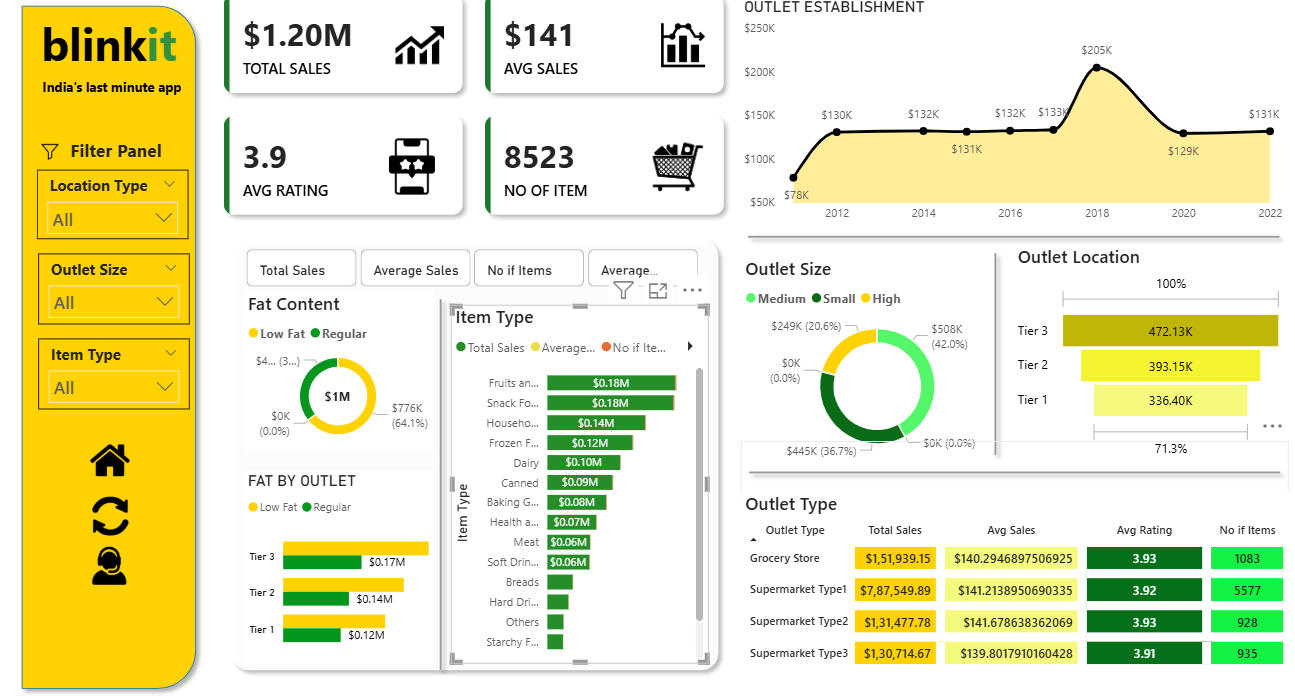

Layout of this report page (visuals, bound fields, positions):
{"tool":"powerbi","page":{"name":"Page 1","canvas":[1400,800],"ordinal":0},"visuals":[{"type":"shape","box":[22.8,49.6,205.1,750.7],"z":0},{"type":"textbox","box":[21.4,61.7,207.8,92.5],"z":1000},{"type":"textbox","box":[28.2,131.4,201.1,44.2],"z":2000},{"type":"cardVisual","fields":{"Data":["BlinkIT Grocery Data.Total Sales","BlinkIT Grocery Data.Average Sales","BlinkIT Grocery Data.Average Rating","BlinkIT Grocery Data.No if Items"]},"box":[232,30,570,270],"z":3000},{"type":"shape","box":[248,300,540,480],"z":4000},{"type":"actionButton","box":[0,0,100,40],"z":5000},{"type":"donutChart","title":"Fat Content","fields":{"Y":["BlinkIT Grocery Data.Total Sales","BlinkIT Grocery Data.Avg Sales","BlinkIT Grocery Data.No if Items","BlinkIT Grocery Data.Avg Rating"],"Category":["BlinkIT Grocery Data.Item Fat Content"]},"box":[270,365,203.8,171.2],"z":6000},{"type":"advancedSlicerVisual","fields":{"Values":["Metrics.Metrics"]},"box":[267.5,315,497.5,50],"z":7000},{"type":"card","fields":{"Values":["BlinkIT Grocery Data.Total Sales"]},"box":[342,454,58,52],"z":8000},{"type":"clusteredBarChart","title":"FAT BY OUTLET","fields":{"Y":["BlinkIT Grocery Data.Total Sales"],"Category":["BlinkIT Grocery Data.Outlet Location Type"],"Series":["BlinkIT Grocery Data.Item Fat Content"]},"box":[270,558,204,206],"z":9000},{"type":"shape","box":[460,364.5,42.7,415.5],"z":10000},{"type":"barChart","title":"Item Type","fields":{"Y":["BlinkIT Grocery Data.Total Sales","BlinkIT Grocery Data.Avg Sales","BlinkIT Grocery Data.No if Items","BlinkIT Grocery Data.Avg Rating"],"Category":["BlinkIT Grocery Data.Item Type"]},"box":[492,380,276,384],"z":11000},{"type":"lineChart","title":"OUTLET ESTABLISHMENT","fields":{"Category":["BlinkIT Grocery Data.Outlet Establishment Year"],"Y":["BlinkIT Grocery Data.Total Sales"]},"box":[801.4,50,587.1,250],"z":12000},{"type":"shape","box":[802,274,588,66],"z":13000},{"type":"donutChart","title":"Outlet Size","fields":{"Y":["BlinkIT Grocery Data.Total Sales","BlinkIT Grocery Data.Avg Sales","BlinkIT Grocery Data.No if Items","BlinkIT Grocery Data.Avg Rating"],"Category":["BlinkIT Grocery Data.Outlet Size"]},"box":[803.3,326.7,293.3,225],"z":14000},{"type":"shape","box":[1055.6,315.6,42.2,234.4],"z":15000},{"type":"funnel","title":"Outlet Location","fields":{"Y":["Sum(BlinkIT Grocery Data.Sales)"],"Category":["BlinkIT Grocery Data.Outlet Location Type"]},"box":[1095.6,315.6,294.4,234.4],"z":16000},{"type":"shape","box":[802.5,525,587.5,67.5],"z":17000},{"type":"pivotTable","title":"Outlet Type","fields":{"Rows":["BlinkIT Grocery Data.Outlet Type"],"Values":["BlinkIT Grocery Data.Total Sales","BlinkIT Grocery Data.Avg Sales","BlinkIT Grocery Data.Avg Rating","BlinkIT Grocery Data.No if Items"]},"box":[803,579.1,596.5,199.7],"z":18000},{"type":"slicer","fields":{"Values":["BlinkIT Grocery Data.Outlet Location Type"]},"box":[48,234,162,74],"z":19000},{"type":"slicer","fields":{"Values":["BlinkIT Grocery Data.Outlet Size"]},"box":[50,324,162,76],"z":20000},{"type":"slicer","fields":{"Values":["BlinkIT Grocery Data.Item Type"]},"box":[50,416,162,76],"z":21000},{"type":"image","box":[100,520,52,52],"z":22000},{"type":"image","box":[100,580,52,51],"z":23000},{"type":"image","box":[101.2,633.9,50.6,50.6],"z":24000},{"type":"textbox","box":[78.6,195.7,131.4,38.6],"z":25000},{"type":"image","box":[48.6,195.7,28.6,38.6],"z":26000}]}

Visuals, with their boxes on the page's 1400x800 design canvas (x1, y1, x2, y2). These are canvas units, not pixel positions in the 1295x696 screenshot, which may show the page scaled, cropped or inside an application window:
shape: Rect(23, 50, 228, 800)
textbox: Rect(21, 62, 229, 154)
textbox: Rect(28, 131, 229, 176)
cardVisual - BlinkIT Grocery Data.Total Sales x BlinkIT Grocery Data.Average Sales: Rect(232, 30, 802, 300)
shape: Rect(248, 300, 788, 780)
actionButton: Rect(0, 0, 100, 40)
"Fat Content" donutChart: Rect(270, 365, 474, 536)
advancedSlicerVisual - Metrics.Metrics: Rect(268, 315, 765, 365)
card - BlinkIT Grocery Data.Total Sales: Rect(342, 454, 400, 506)
"FAT BY OUTLET" clusteredBarChart: Rect(270, 558, 474, 764)
shape: Rect(460, 364, 503, 780)
"Item Type" barChart: Rect(492, 380, 768, 764)
"OUTLET ESTABLISHMENT" lineChart: Rect(801, 50, 1388, 300)
shape: Rect(802, 274, 1390, 340)
"Outlet Size" donutChart: Rect(803, 327, 1097, 552)
shape: Rect(1056, 316, 1098, 550)
"Outlet Location" funnel: Rect(1096, 316, 1390, 550)
shape: Rect(802, 525, 1390, 592)
"Outlet Type" pivotTable: Rect(803, 579, 1400, 779)
slicer - BlinkIT Grocery Data.Outlet Location Type: Rect(48, 234, 210, 308)
slicer - BlinkIT Grocery Data.Outlet Size: Rect(50, 324, 212, 400)
slicer - BlinkIT Grocery Data.Item Type: Rect(50, 416, 212, 492)
image: Rect(100, 520, 152, 572)
image: Rect(100, 580, 152, 631)
image: Rect(101, 634, 152, 684)
textbox: Rect(79, 196, 210, 234)
image: Rect(49, 196, 77, 234)
